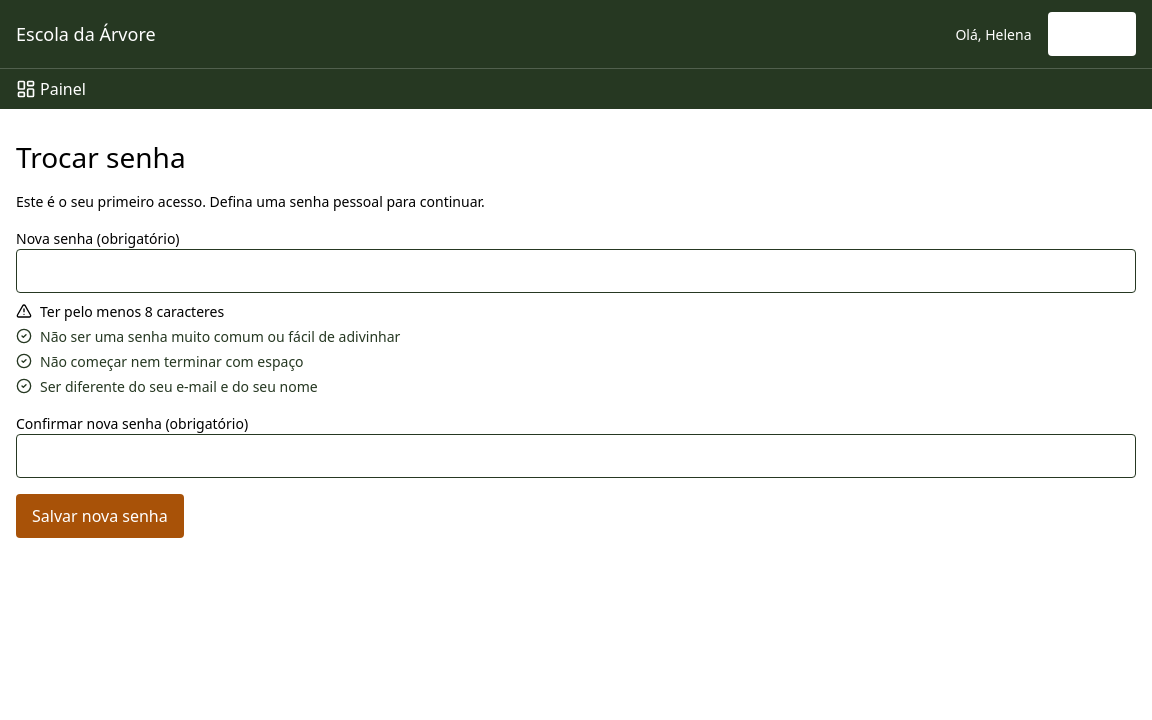
Test case: US2 — primeiro acesso › senha fraca é recusada com a lista do que falta
Type "123" into the password field labelled "Nova senha (obrigatório)" at (576, 271), box left=16, top=249, right=1136, bottom=293
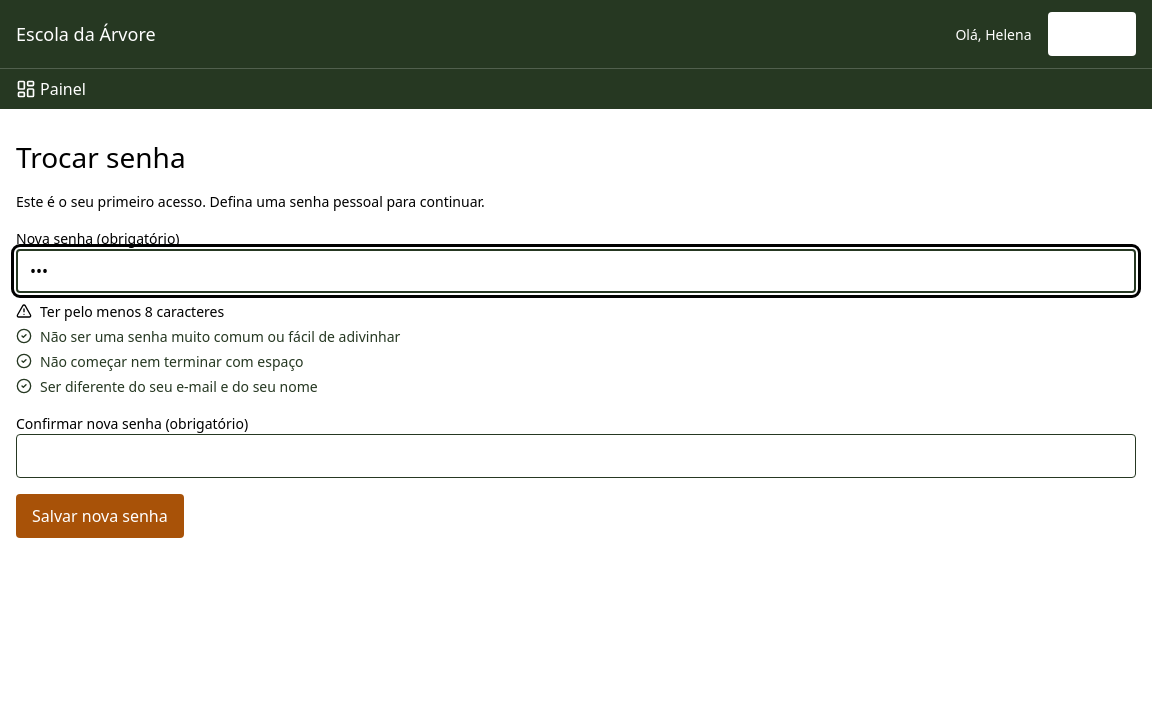
Type "123" into the password field labelled "Confirmar nova senha (obrigatório)" at (576, 456), box left=16, top=434, right=1136, bottom=478
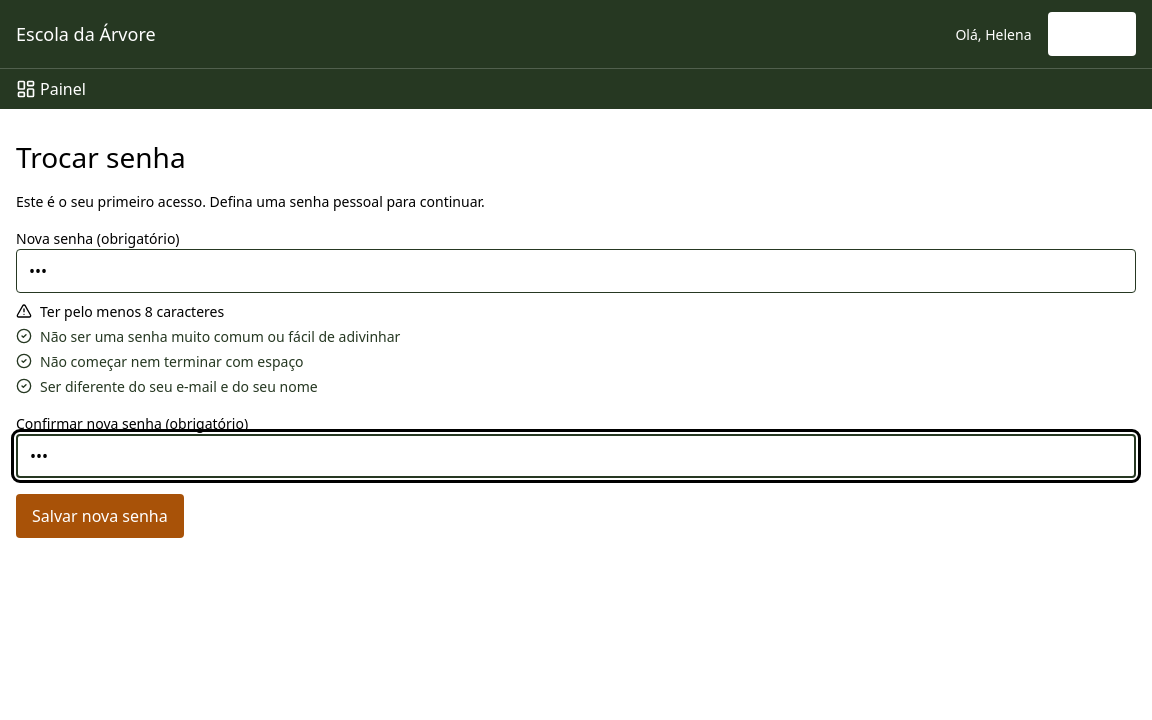
Click the button "Salvar nova senha" at (100, 516), box left=16, top=494, right=184, bottom=538
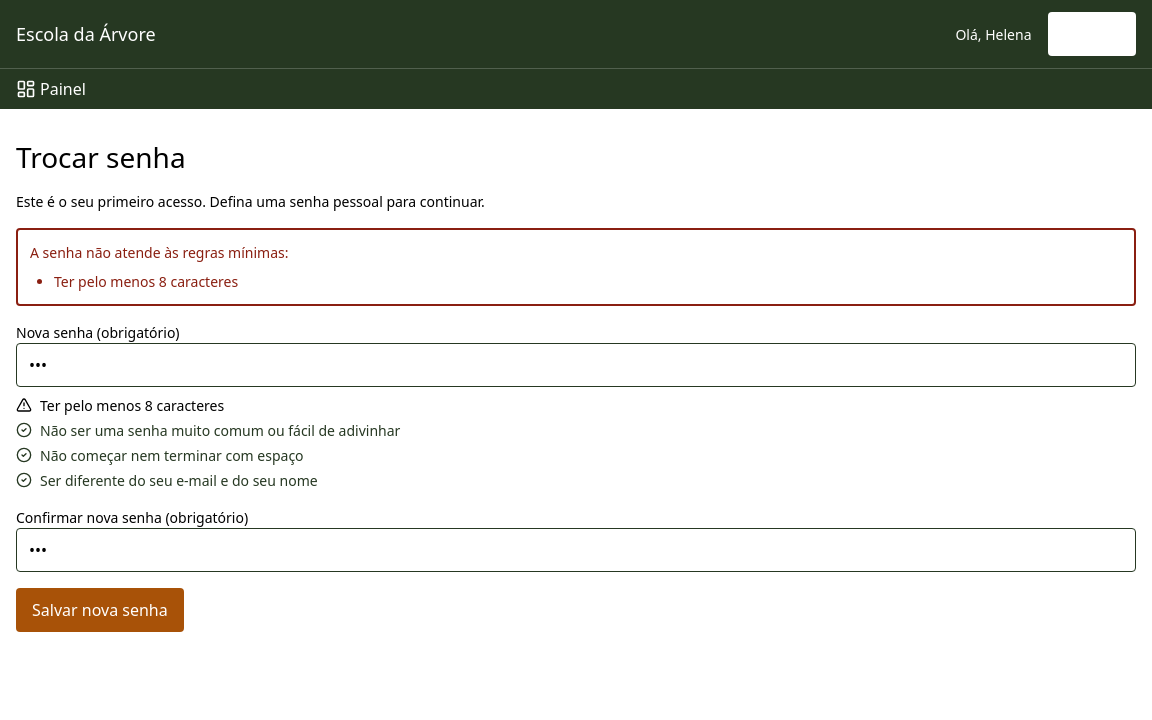
Now the text "A senha não atende às regras mínimas:" is shown, box left=30, top=243, right=288, bottom=262
